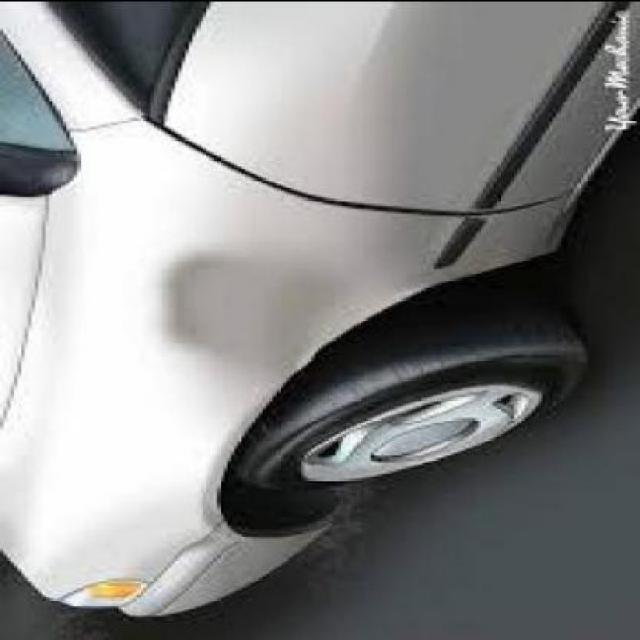damage: (158, 237, 347, 368), (127, 520, 248, 591)
